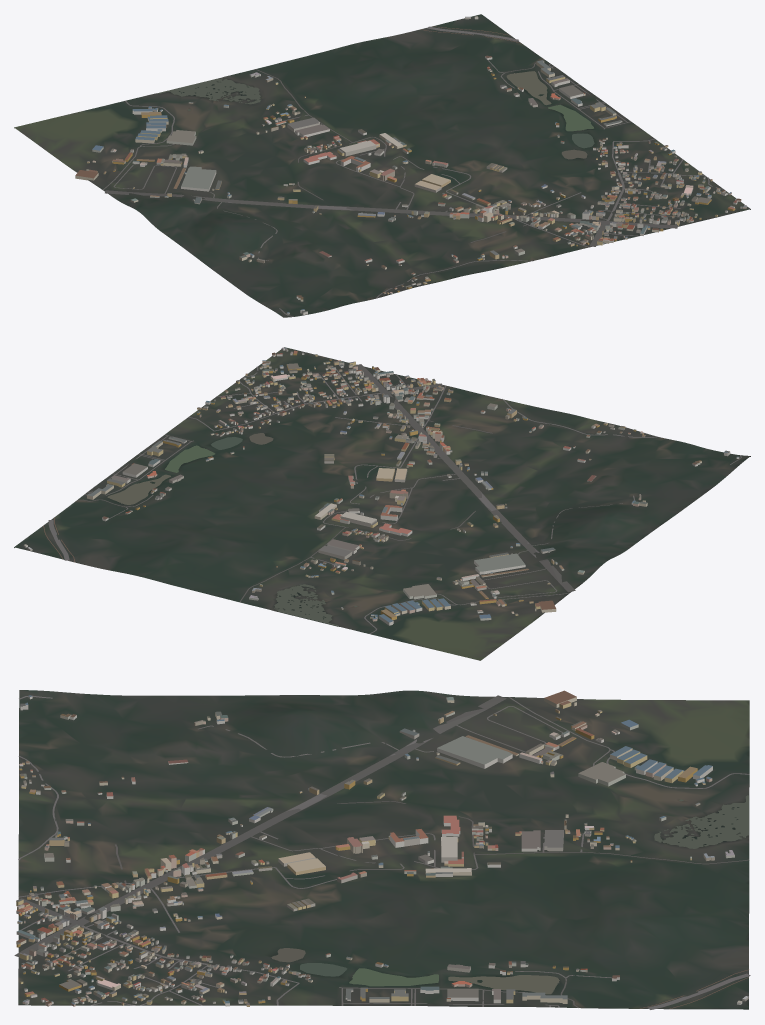
The picture shows the model from 3 angles, top to bottom: view 1: azimuth 30°, elevation 25°; view 2: azimuth 150°, elevation 25°; view 3: azimuth 270°, elevation 25°; orthographic projection. The views are drawn at different scales.
Visible parts, largest first — view 1: ground, buildings, roads, water; view 2: ground, buildings, roads, water; view 3: ground, buildings, roads, water.
Boxes of the visible parts, box(x1,y1,x2,y2) form: ground: box(14, 14, 750, 317); buildings: box(75, 16, 746, 315); roads: box(103, 26, 723, 316); water: box(157, 71, 594, 159); ground: box(14, 347, 750, 660); buildings: box(23, 347, 739, 625); roads: box(43, 364, 741, 633); water: box(107, 433, 357, 625); ground: box(18, 690, 749, 1009); buildings: box(16, 690, 748, 1006); roads: box(14, 695, 750, 1009); water: box(271, 795, 748, 994).
Bounding box in the file's own units: 1428 × 39.1 × 1414.
